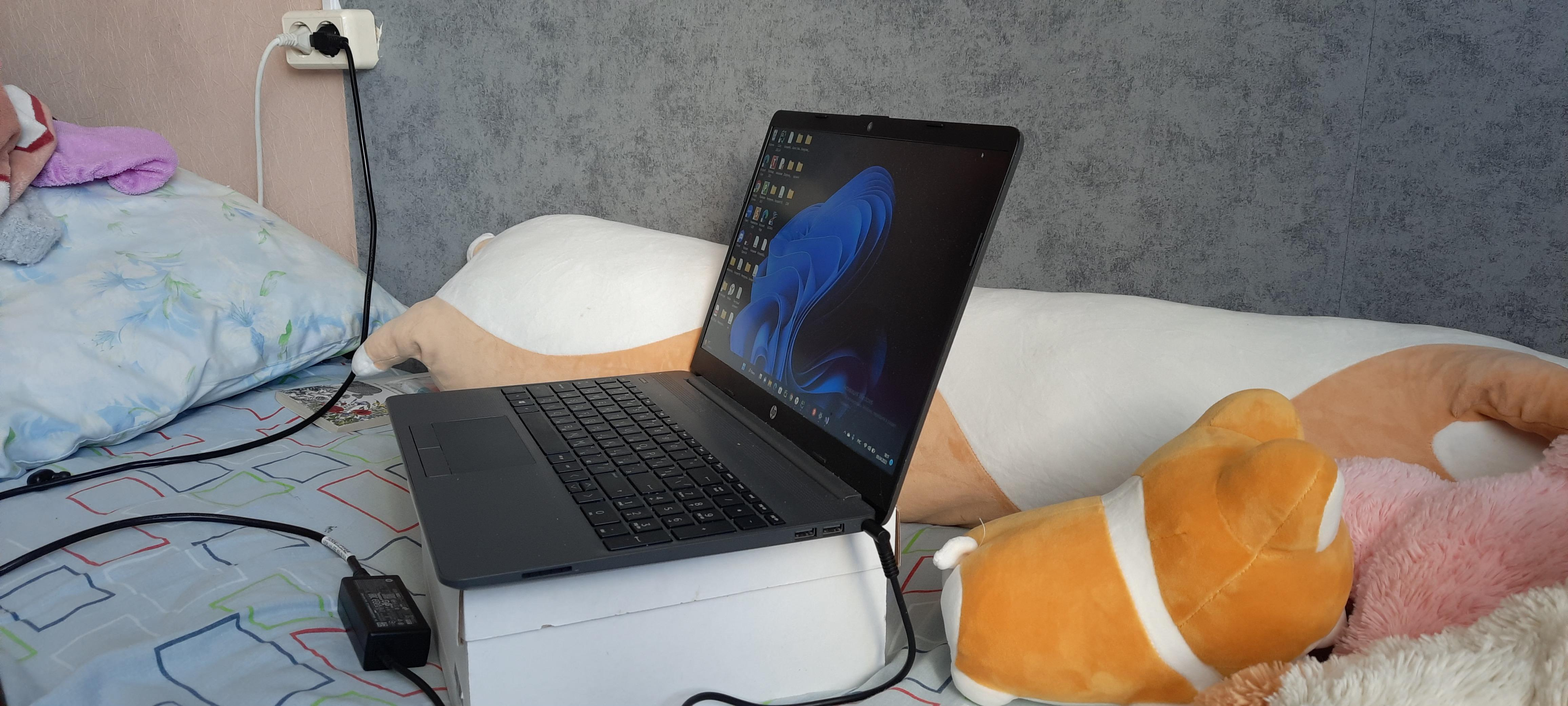monitor: (665, 97, 1039, 539)
